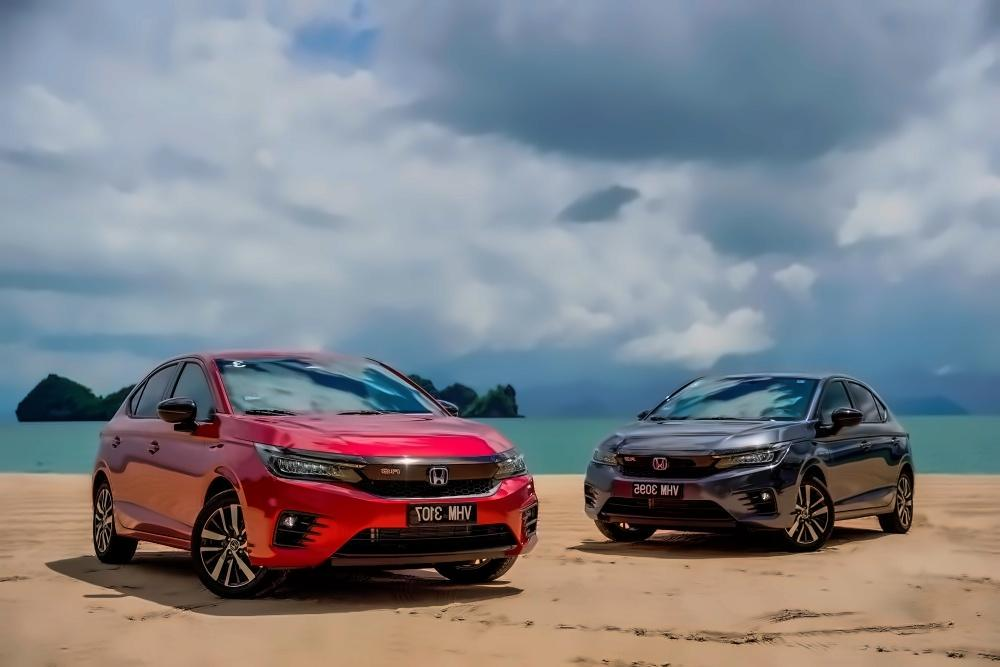Car hood: (230, 411, 519, 460), (593, 419, 817, 462)
Driver-s door - -F-R-: (148, 355, 215, 544)
Fender - -F-L-: (786, 414, 831, 497)
Fender - -F-R-: (202, 412, 269, 506)
Fender - -R-L-: (892, 430, 912, 510)
Fender - -R-R-: (106, 355, 177, 542), (94, 436, 121, 535)
Front bumper: (244, 480, 543, 573), (578, 464, 800, 539)
Headlight - -L-: (711, 443, 781, 475), (485, 443, 532, 484)
Headlight - -R-: (249, 439, 371, 487), (587, 442, 624, 470)
Passenger-s door - -F-L-: (820, 374, 871, 517)
Passenger-s door - -R-L-: (850, 377, 903, 513)
Side bumper - -L-: (828, 499, 903, 526)
Side bumper - -R-: (108, 519, 194, 555)
Side mirror - -L-: (823, 402, 869, 438), (431, 396, 466, 420)
Side mirror - -R-: (152, 391, 203, 432), (631, 406, 661, 426)
